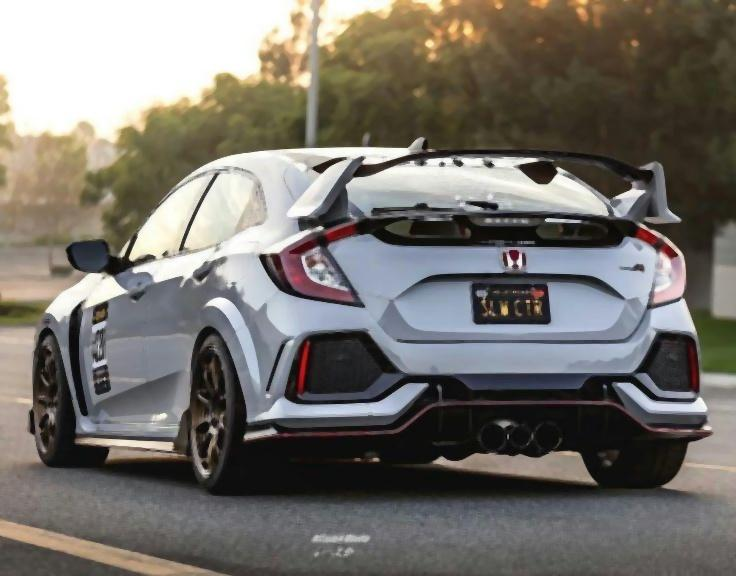Car boot: (330, 198, 661, 344)
Fender - -F-L-: (31, 272, 98, 443)
Fender - -R-L-: (202, 149, 307, 399)
Passenger-s door - -F-L-: (88, 162, 212, 449)
Passenger-s door - -R-L-: (150, 160, 269, 450)
Rear bumper: (238, 367, 716, 475)
Rear light - -L-: (260, 214, 366, 311)
Rear light - -R-: (635, 218, 687, 310)
Side bumper - -L-: (67, 412, 197, 465)
Side mirror - -L-: (60, 237, 130, 277)
